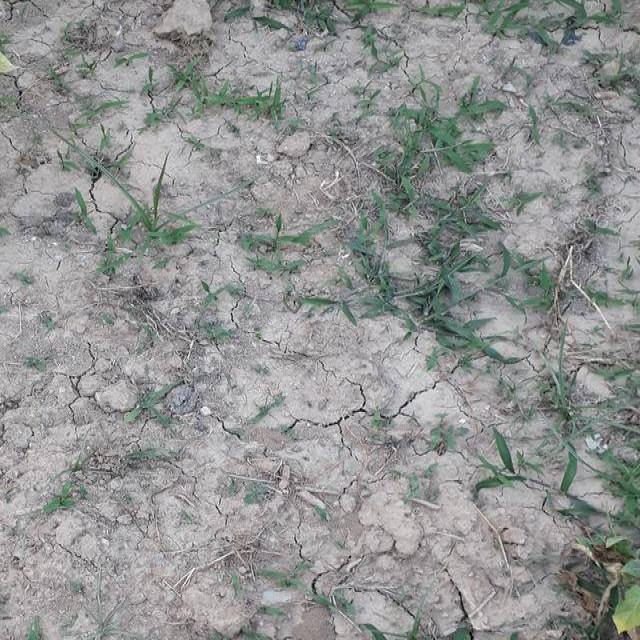weed: (392, 96, 495, 352), (480, 427, 640, 530), (109, 171, 202, 246), (174, 78, 298, 126), (469, 3, 637, 37)
